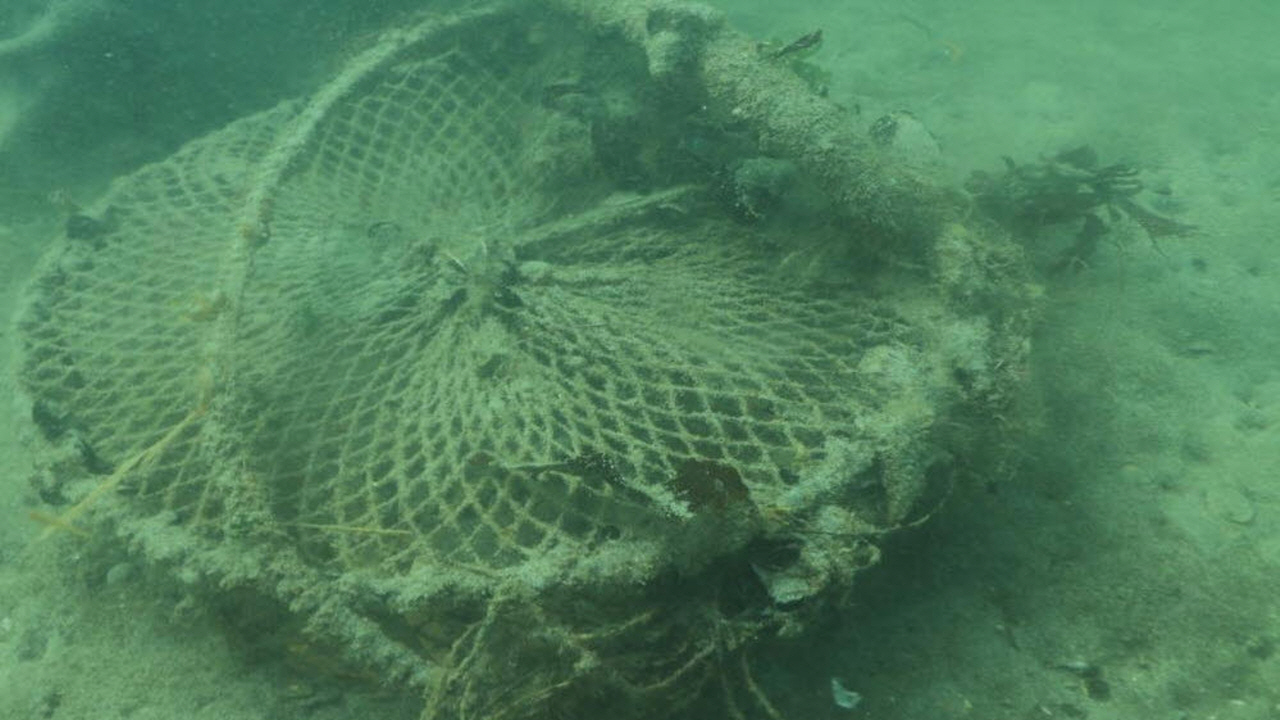circular fish trap: (10, 51, 959, 606)
rope: (150, 13, 600, 690)
